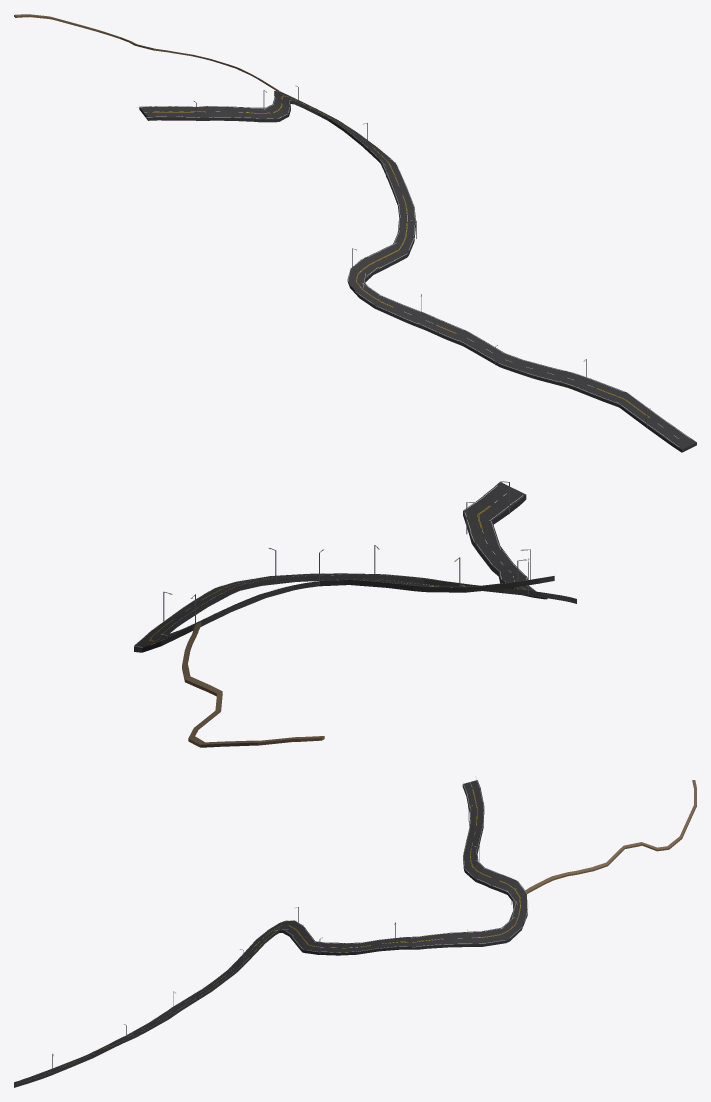
The picture shows the model from 3 angles, top to bottom: view 1: azimuth 30°, elevation 25°; view 2: azimuth 150°, elevation 25°; view 3: azimuth 270°, elevation 25°; orthographic projection. The views are drawn at different scales.
Size of the model in its own units: 126 by 89.35 by 291.
